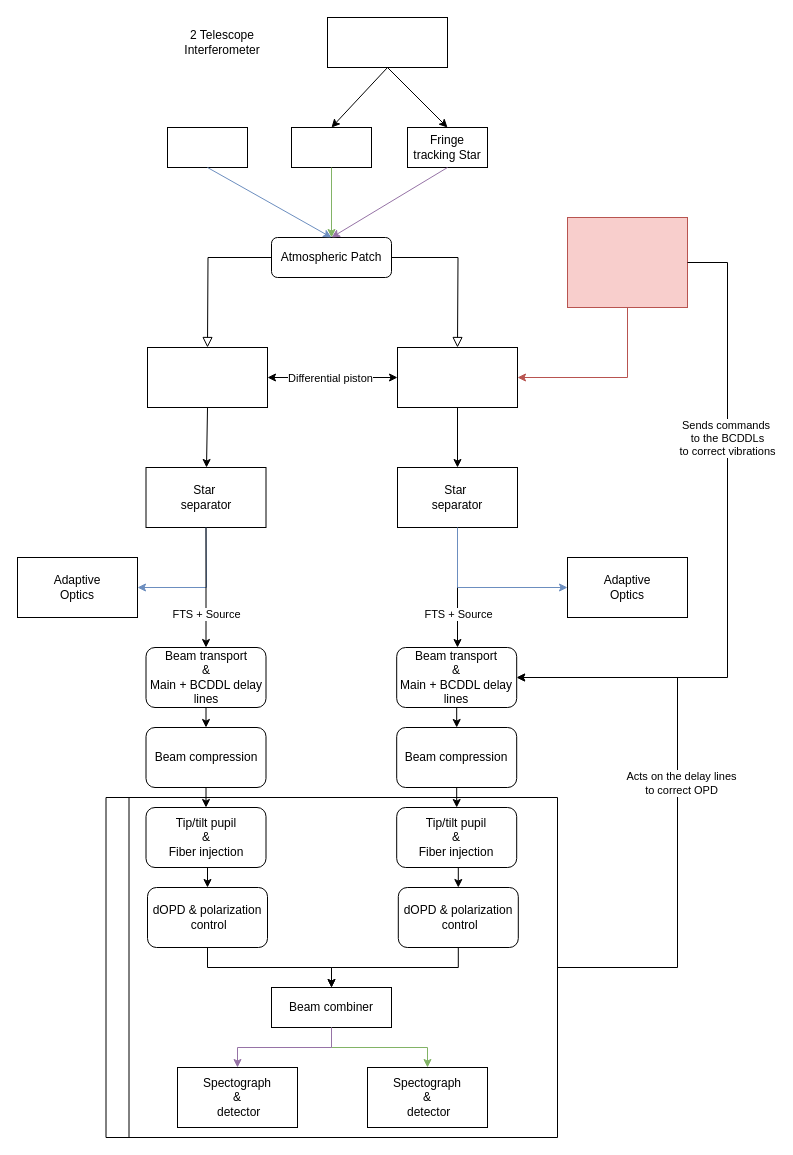
Image size: 793x1155. Some labels were removed from this diagram. Here are the shapes that lost their labels. From the top down, the centre of each, then its label:
point 387,42: Can be the same using a 50/50 split
point 207,147: NGS + LGS (GPAO)
point 331,147: Science
point 627,262: Vibration model + Vibration tracking with accelerometers
point 207,377: UT1 (M1-M8) XY coordinates
point 457,377: UT2 (M1-M8) XY coordinates
point 331,967: GRAVITY INSTRRUMENT
